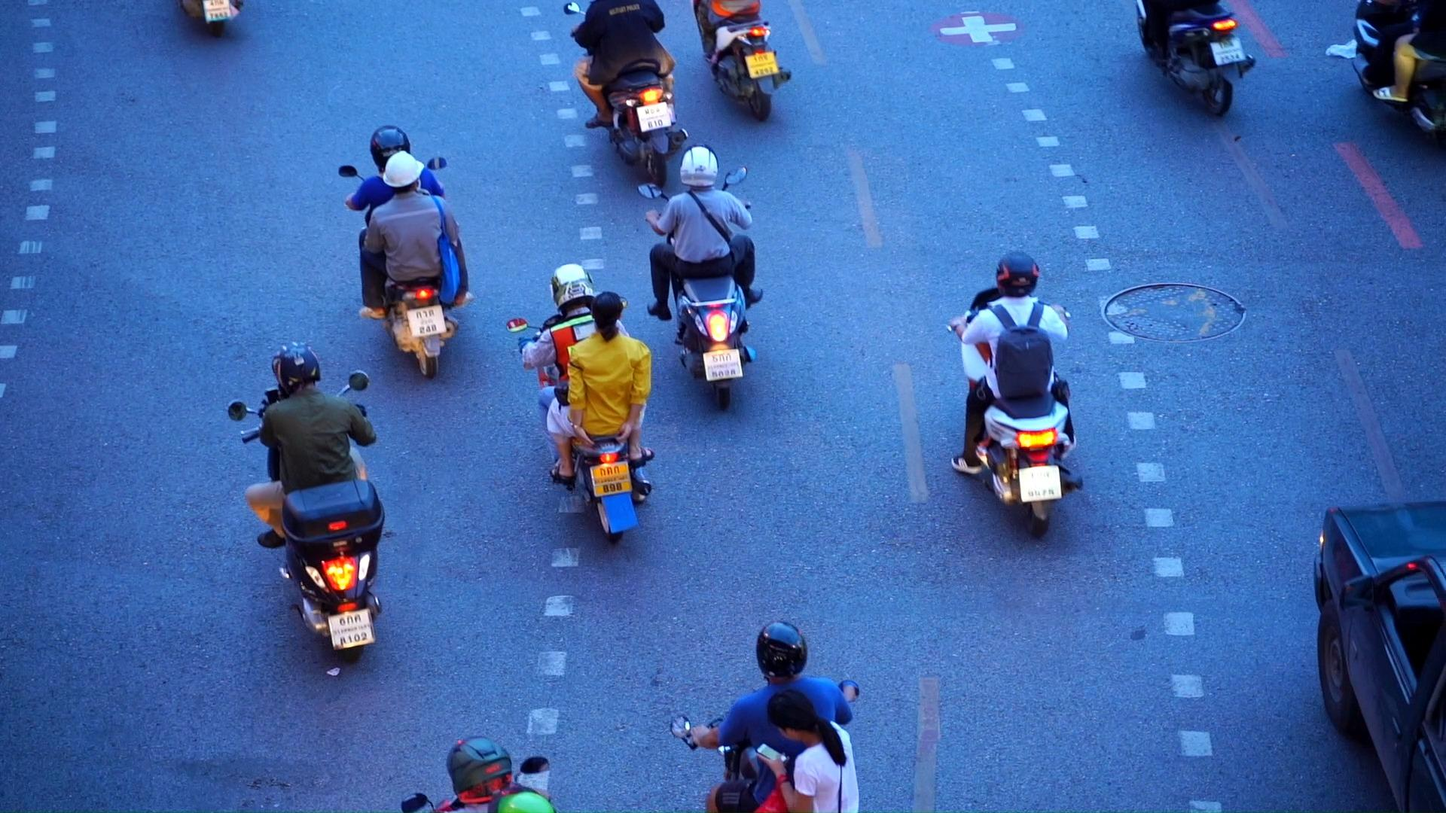driver: (226, 341, 386, 664), (506, 263, 655, 543), (945, 250, 1083, 539), (671, 620, 859, 813), (338, 125, 475, 380), (638, 143, 762, 411), (564, 0, 690, 188), (1134, 0, 1256, 116), (1352, 0, 1446, 134), (689, 0, 791, 120), (401, 736, 557, 813)
helmet: (446, 736, 512, 804), (756, 621, 808, 680), (271, 341, 321, 398), (550, 263, 595, 312), (995, 250, 1040, 298), (370, 125, 410, 174), (383, 151, 425, 195), (488, 787, 557, 813), (680, 143, 719, 188)
no-helmet: (767, 689, 844, 747), (591, 291, 623, 343)
